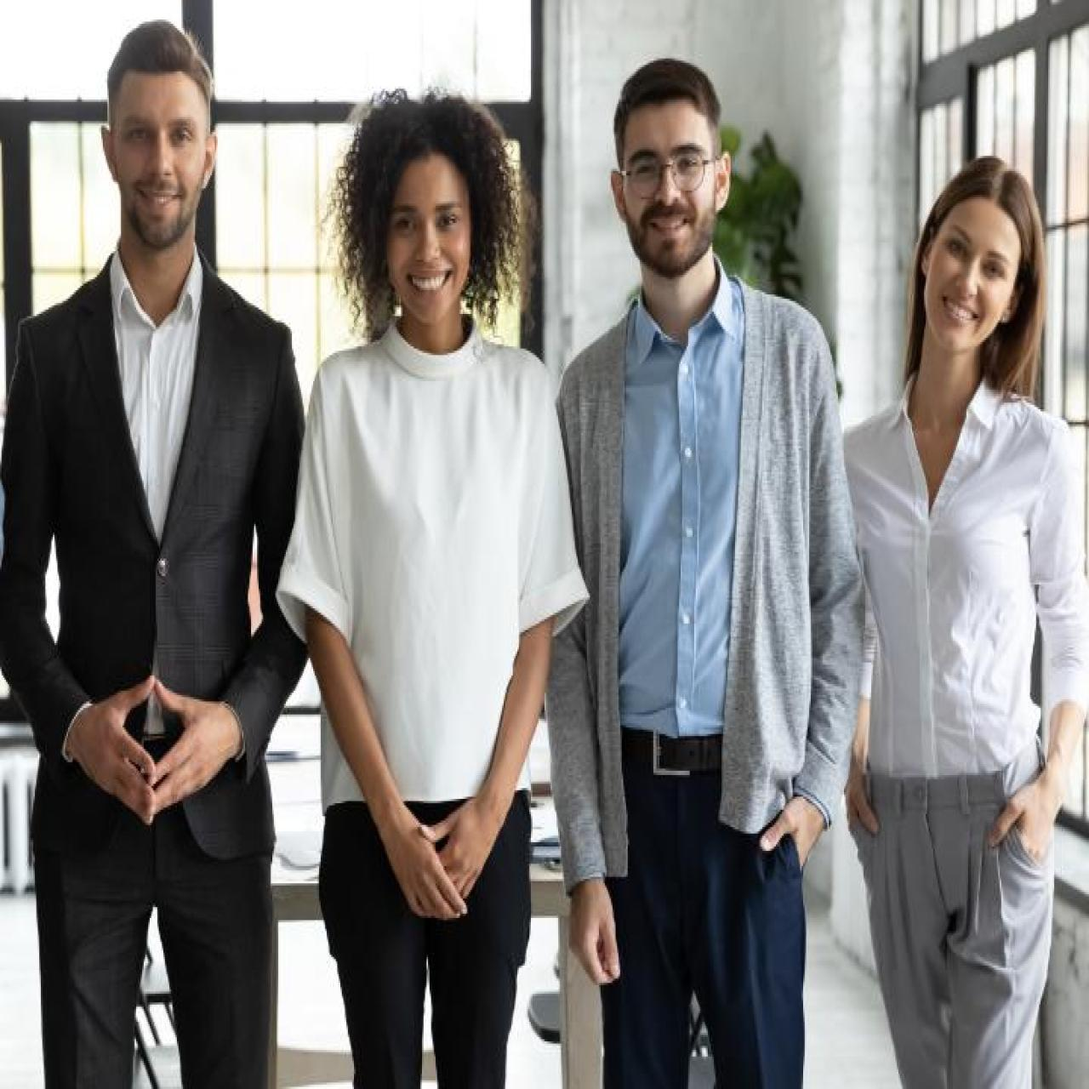NO_Safety_Vest: (39, 282, 282, 809), (584, 301, 795, 766), (333, 351, 535, 785), (853, 386, 1056, 793)
Person: (9, 12, 320, 1087), (562, 52, 875, 1089), (290, 61, 586, 1089), (850, 135, 1089, 1089)
